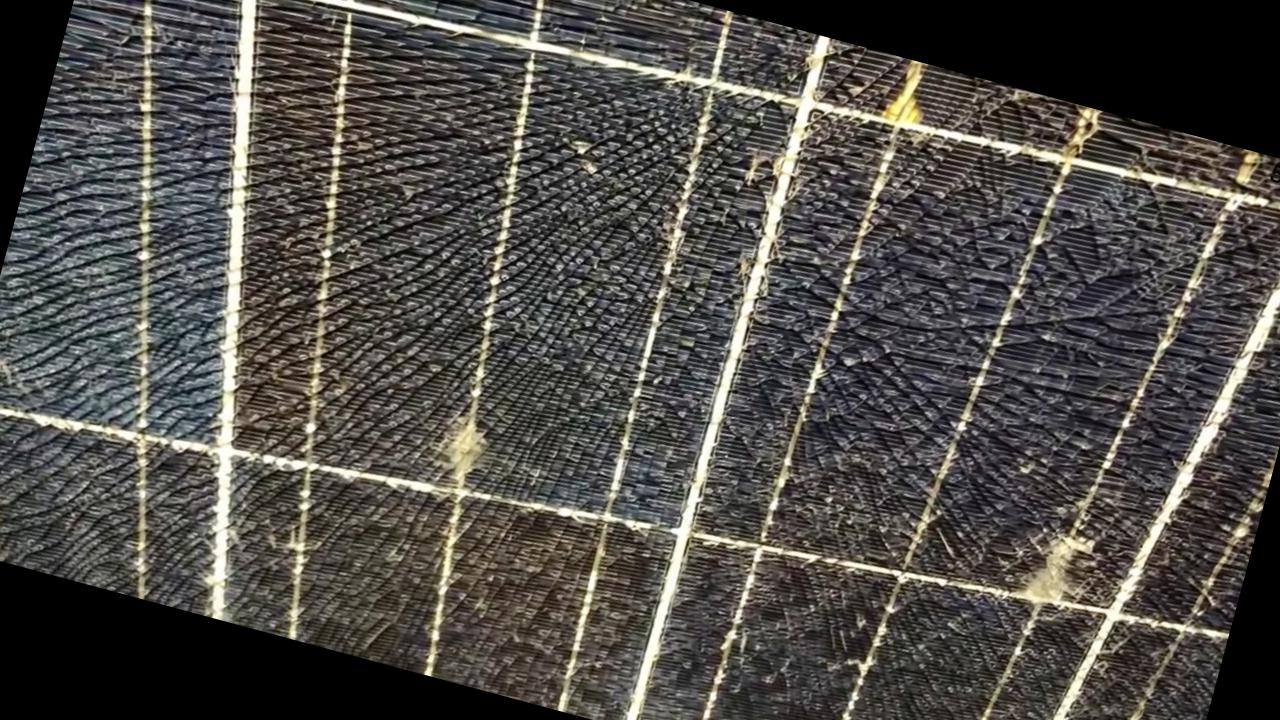Crack: (691, 85, 884, 328), (984, 479, 1132, 650)
